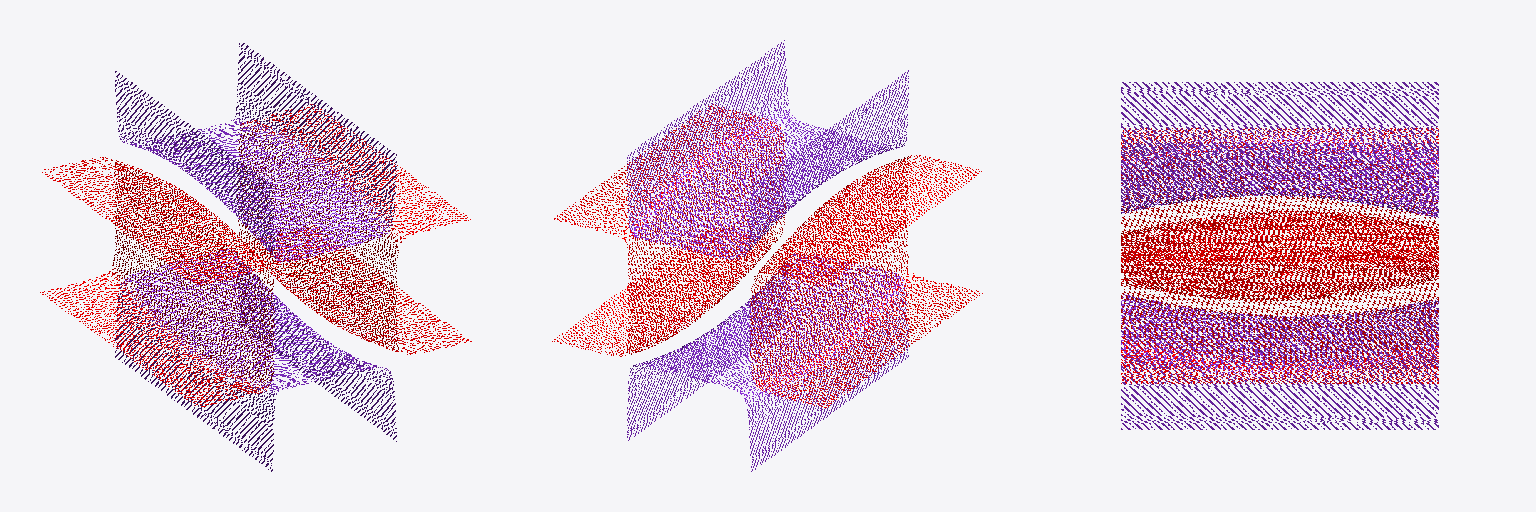
File: fermi_surface_3d_complete.obj
3 views of the same model, side by side, from view 1: azimuth 30°, elevation 25°; view 2: azimuth 150°, elevation 25°; view 3: azimuth 270°, elevation 25° (orthographic).
Visible parts, largest first — view 1: band_4, band_3; view 2: band_3, band_4; view 3: band_3, band_4.
Boxes of the visible parts, x1=… form: band_4: x1=40, y1=104, x2=471, y2=406; band_3: x1=115, y1=43, x2=396, y2=471; band_3: x1=627, y1=40, x2=908, y2=471; band_4: x1=552, y1=104, x2=982, y2=407; band_3: x1=1121, y1=82, x2=1438, y2=429; band_4: x1=1121, y1=128, x2=1438, y2=383.
Bounding box in the file's own units: 2 × 2 × 2.